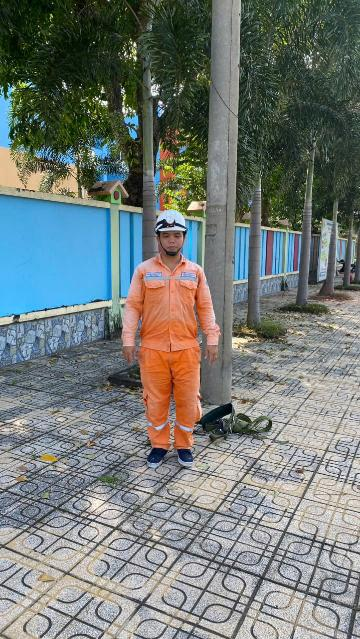harness: (199, 400, 276, 444)
helmet: (153, 210, 189, 237)
shoes: (171, 436, 222, 482), (137, 433, 175, 478)
